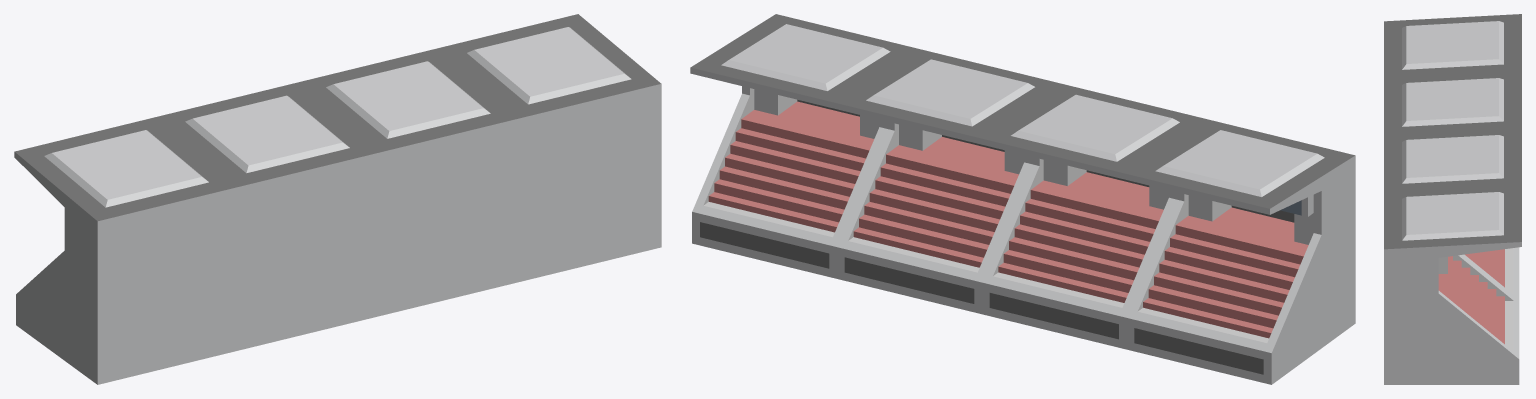
Rendered from grandstand.glb.
The picture shows the model from 3 angles, left to right: view 1: azimuth 30°, elevation 25°; view 2: azimuth 150°, elevation 25°; view 3: azimuth 270°, elevation 25°; orthographic projection. The views are drawn at different scales.
Parts seen in each view (by area): view 1: body; view 2: body; view 3: body.
Part boxes in pixels (box(x1,y1,x2,y2)): body: box(14, 14, 661, 384); body: box(690, 14, 1355, 384); body: box(1384, 14, 1521, 384).
Bounding box in the file's own units: 33.63 × 10 × 8.6.
